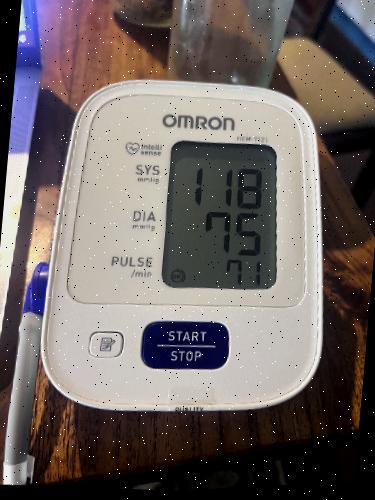bpm: (160, 138, 280, 291)
